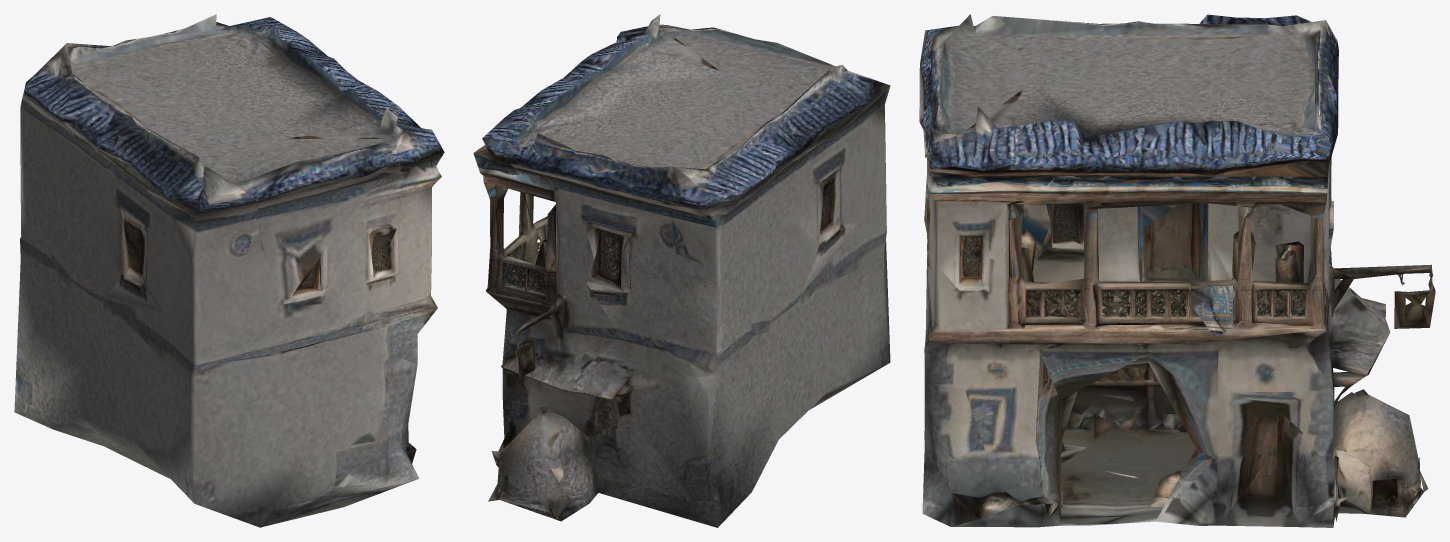
File: house_craftsman_2_alt.glb
The picture shows the model from 3 angles, left to right: view 1: azimuth 30°, elevation 25°; view 2: azimuth 150°, elevation 25°; view 3: azimuth 270°, elevation 25°; orthographic projection. The views are drawn at different scales.
Visible parts, largest first — view 1: house_craftsman_2_alt; view 2: house_craftsman_2_alt; view 3: house_craftsman_2_alt.
Part boxes in pixels (<box>): house_craftsman_2_alt: <box>14,14,444,527</box>; house_craftsman_2_alt: <box>473,14,890,527</box>; house_craftsman_2_alt: <box>919,14,1435,527</box>.
Size of the model in its own units: 0.6362 by 0.8362 by 0.9392.
Materials: 1 (1 with a texture image).
